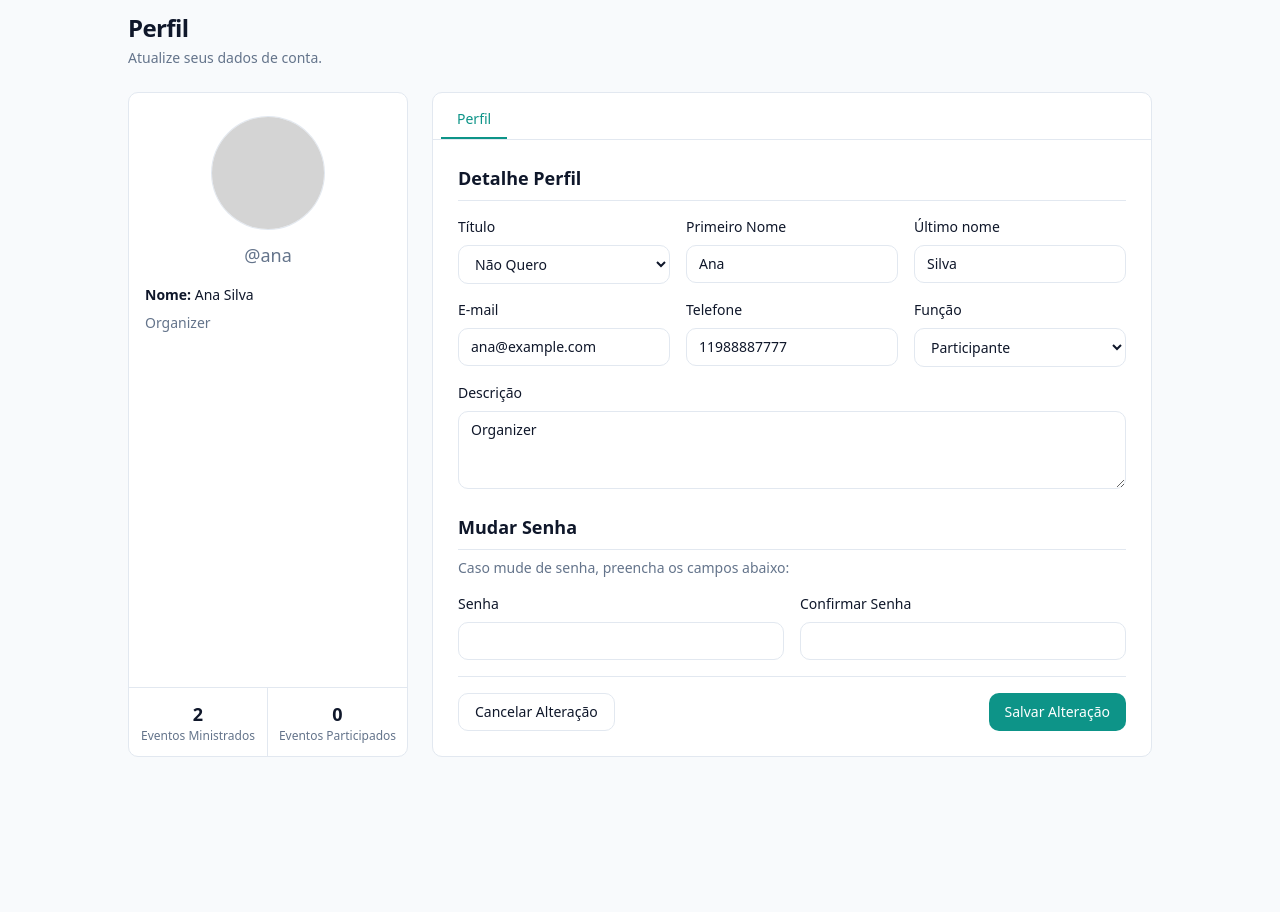
Scenario: ProfilePage › exibe erro ao falhar salvamento
Expected: the field showing "11988887777" is shown, [686,328,898,366]
Click the button "Salvar Alteração" at (1057, 712), box [988,693,1126,731]
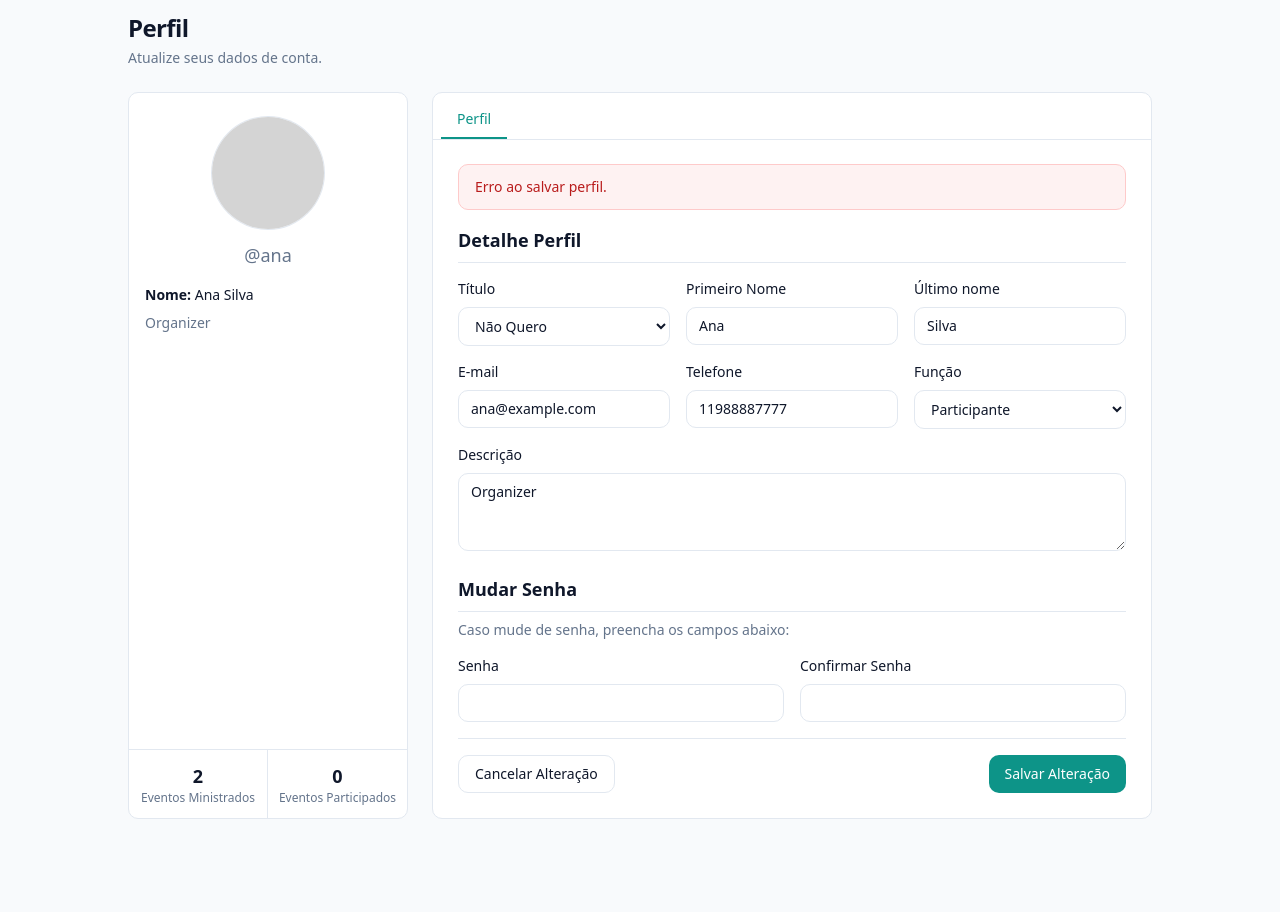
Result: the text "Erro ao salvar perfil." is shown at [458,164,1126,210]
